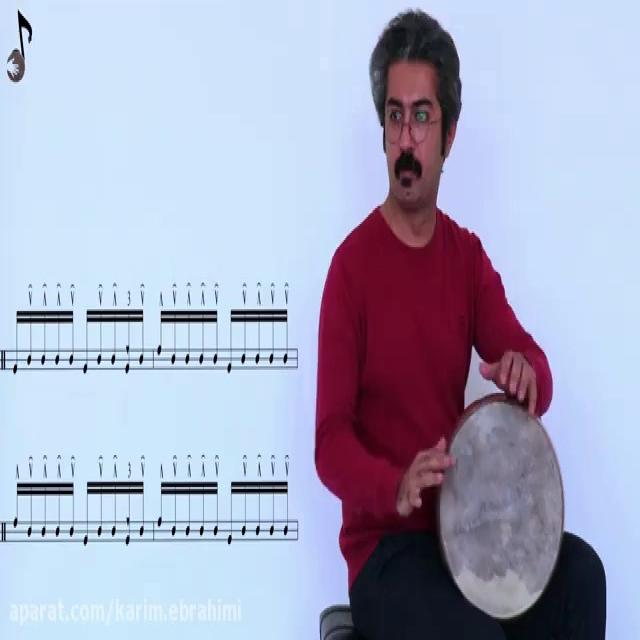Tombak: (437, 393, 564, 626)
